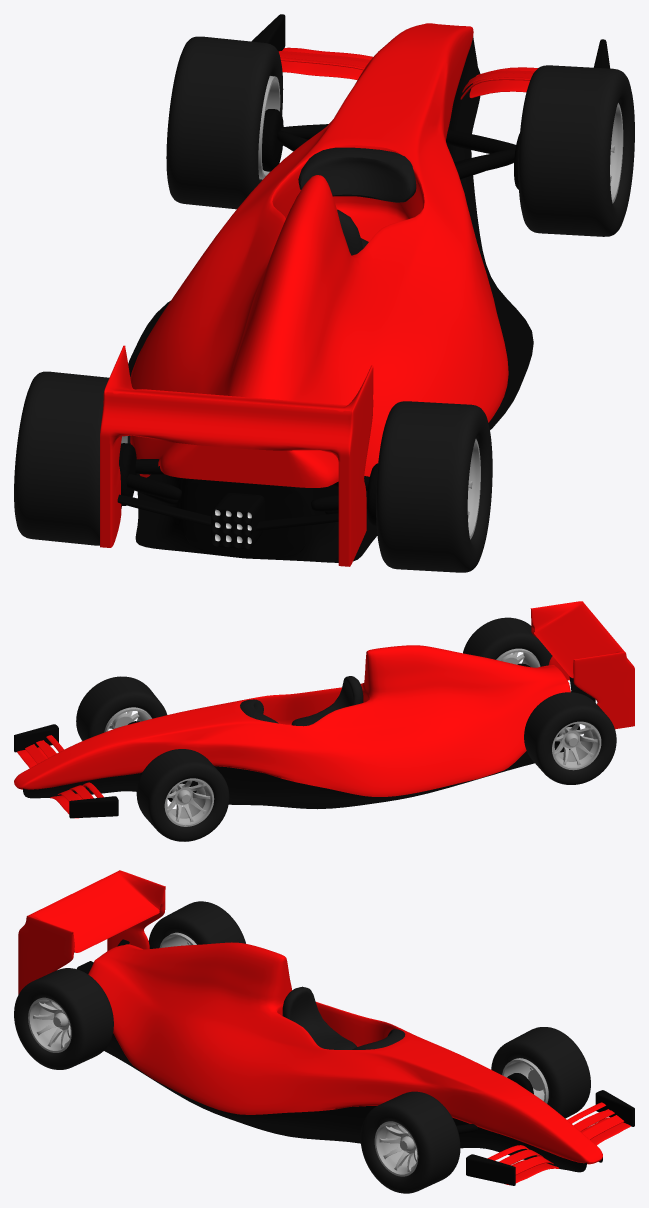
Rendered from F1Car.fbx.
3 renders of one model, top to bottom at view 1: azimuth 30°, elevation 25°; view 2: azimuth 150°, elevation 25°; view 3: azimuth 270°, elevation 25°, orthographic. The views are drawn at different scales.
Visible parts, largest first — view 1: F1Car; view 2: F1Car; view 3: F1Car.
Part boxes in pixels (box(x1,y1,x2,y2)): F1Car: box(14, 14, 634, 572); F1Car: box(14, 601, 634, 841); F1Car: box(14, 870, 634, 1193).
Bounding box in the file's own units: 1631 × 400 × 1759.
